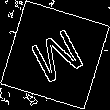M_SE: (23, 22, 87, 88)
